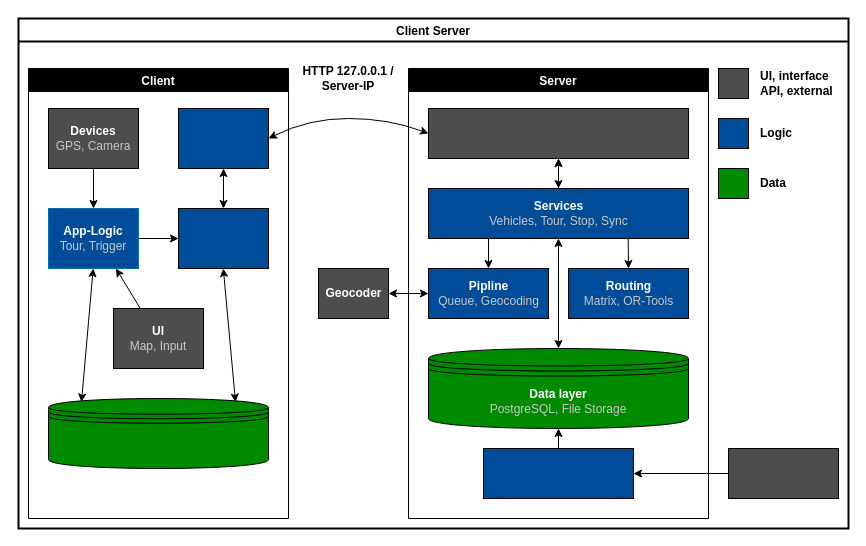
Some shapes in this 866 by 546 pixel diagram are drawn without their labels. Each missing label, with the centre of its shape:
"API-Client HTTP-access" goes at point 223,138.
"I mport osm2pgrouting" goes at point 558,473.
"Local Storage SQLite, Cache" goes at point 158,433.
"OSM-Data" goes at point 783,473.
"REST API + Auth In and Out / Authentication" goes at point 558,133.
"Sync-Manager Outbox" goes at point 223,238.
